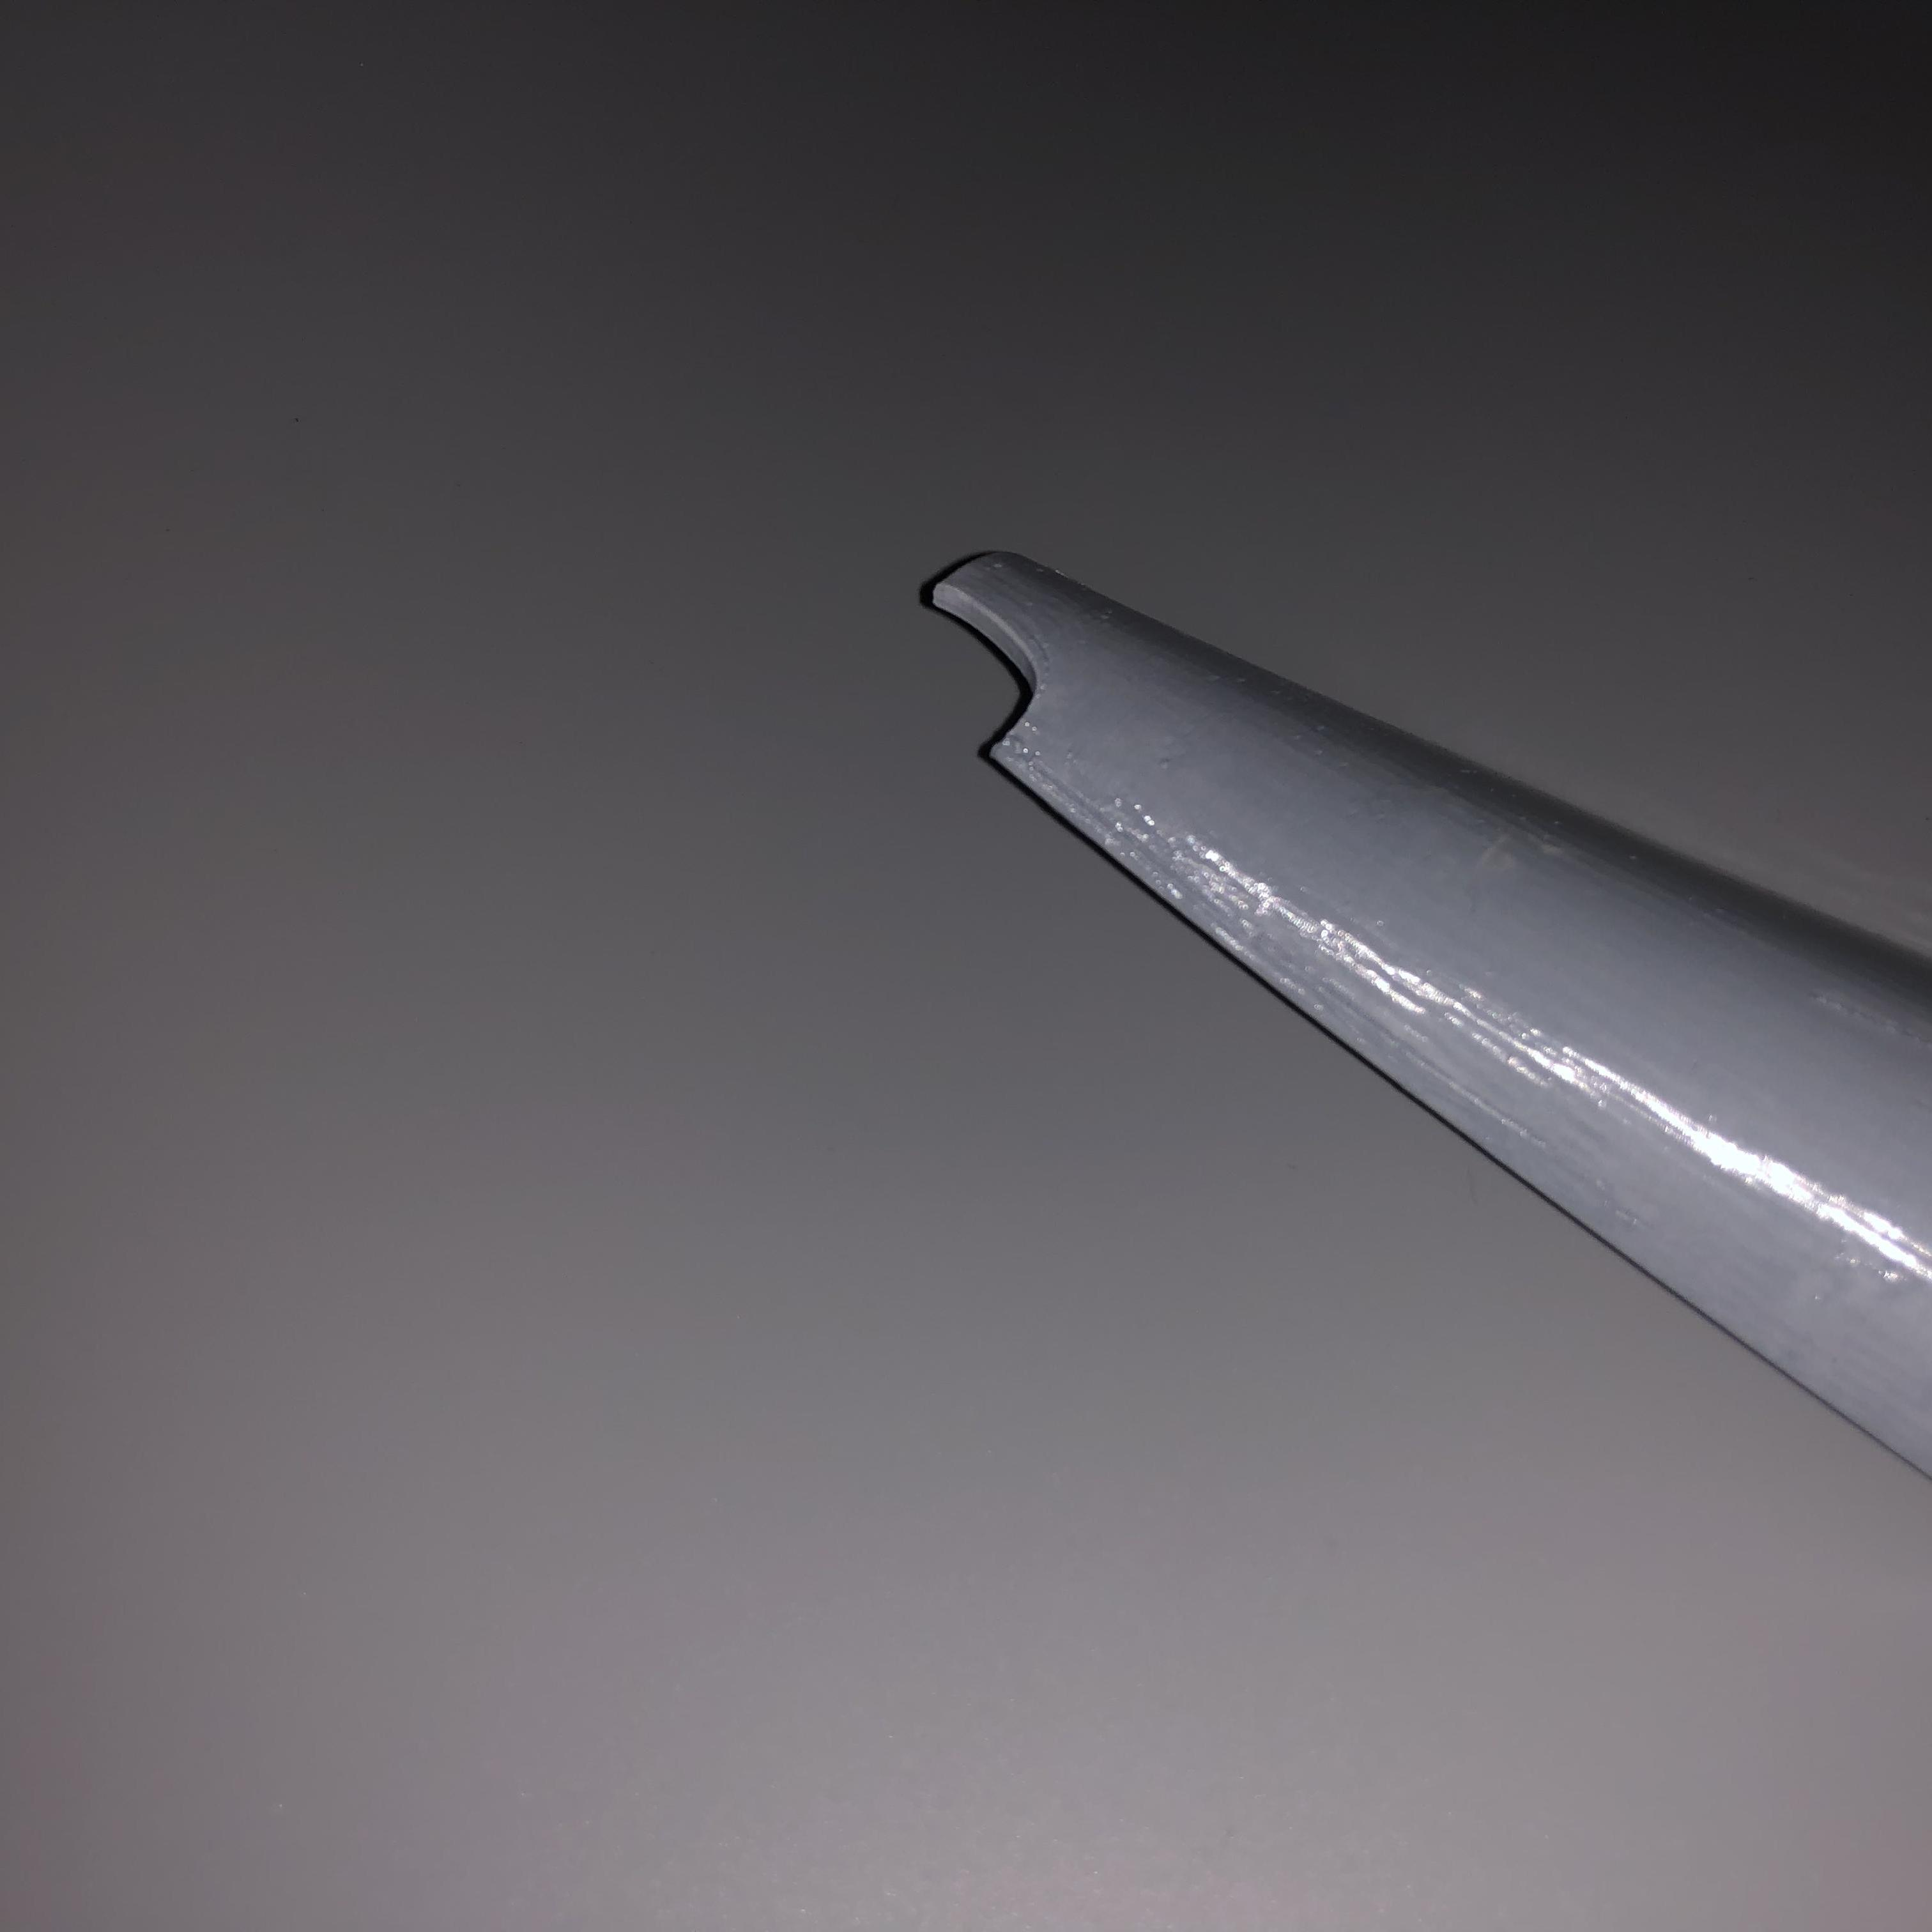fracture: (927, 582, 1069, 770)
